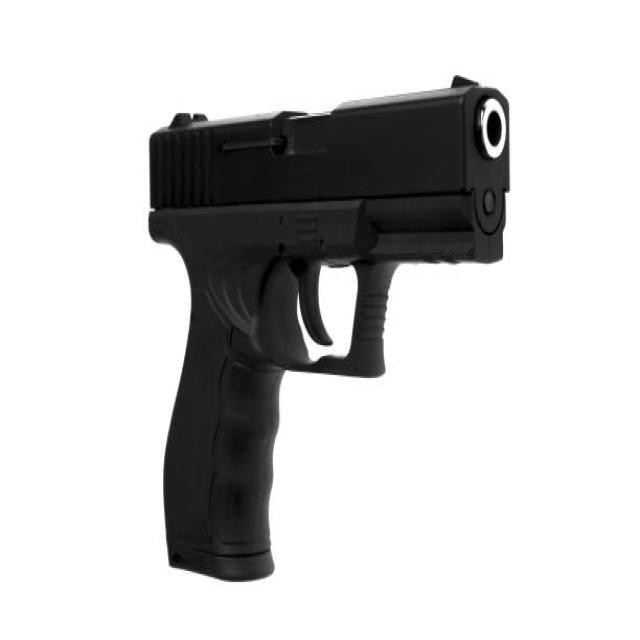pistol: (141, 72, 521, 589)
